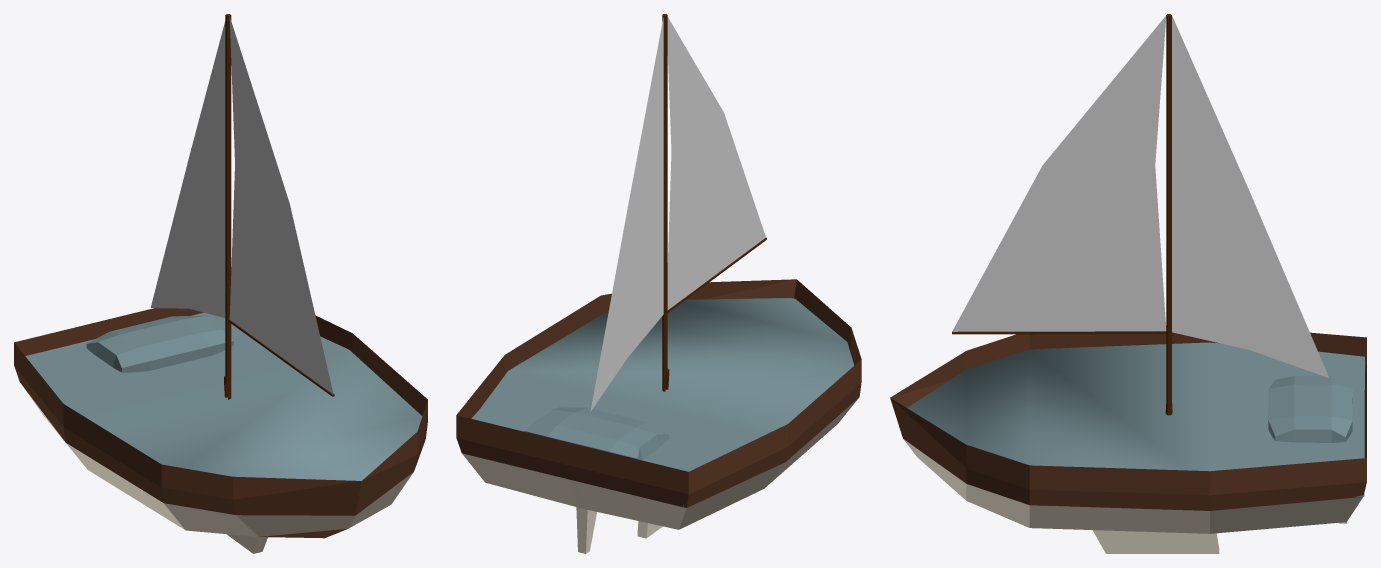
Rendered from krevet_brod.fbx.
The picture shows the model from 3 angles, left to right: view 1: azimuth 30°, elevation 25°; view 2: azimuth 150°, elevation 25°; view 3: azimuth 270°, elevation 25°; orthographic projection. The views are drawn at different scales.
Parts seen in each view (by area): view 1: bed-wood, boat-sail.001, boat-sail; view 2: bed-wood, boat-sail, boat-sail.001; view 3: boat-sail.001, bed-wood, boat-sail.
Part boxes in pixels (bbox=[...]): bed-wood: bbox=[25, 312, 422, 480]; boat-sail.001: bbox=[150, 14, 334, 399]; boat-sail: bbox=[14, 308, 427, 553]; bed-wood: bbox=[461, 297, 854, 506]; boat-sail: bbox=[456, 279, 861, 553]; boat-sail.001: bbox=[590, 14, 766, 411]; boat-sail.001: bbox=[952, 14, 1328, 415]; bed-wood: bbox=[907, 342, 1364, 497]; boat-sail: bbox=[890, 326, 1366, 553].
Size of the model in its own units: 195 by 332 by 268.
